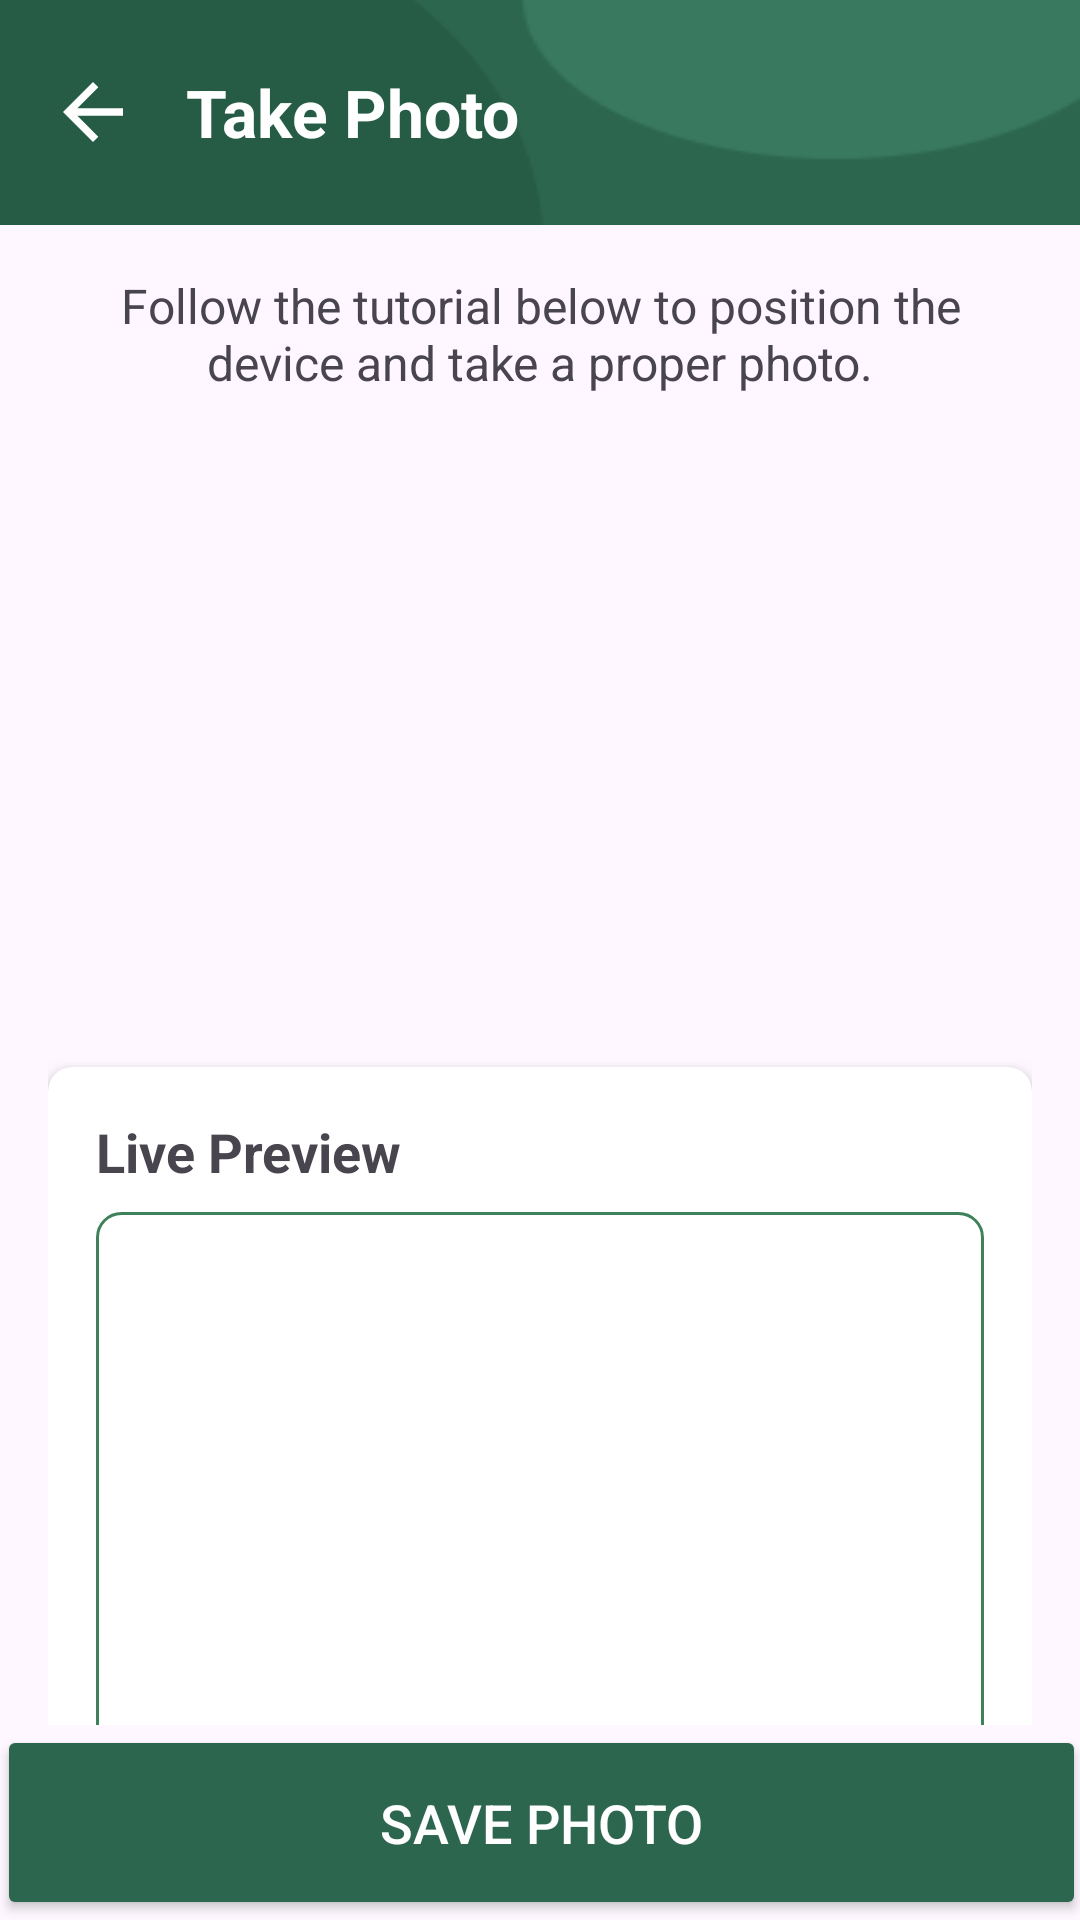

Icon click points for this 1080w x 1920h phone screenshot, format point (x, y):
Back: point (93, 112)
